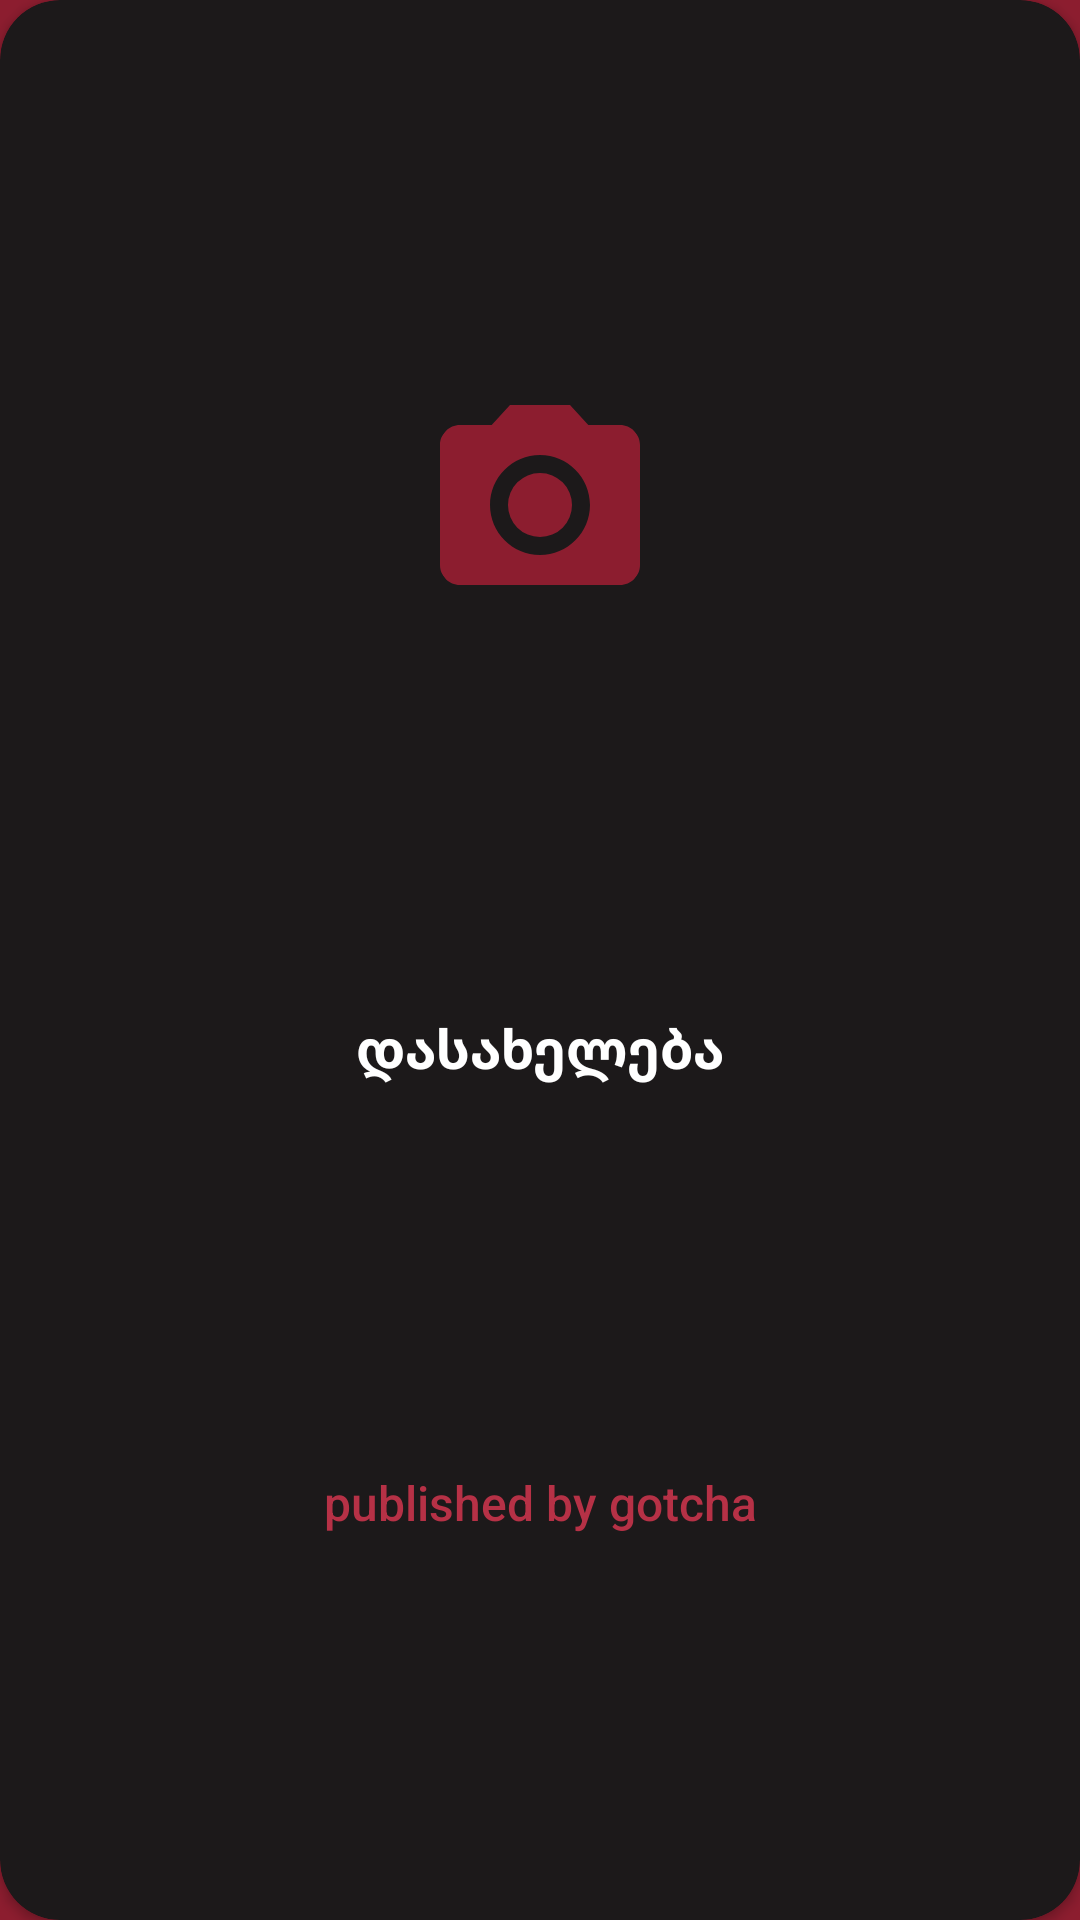

Icons on this 1080x1920 Android screen, each with its box as (x1=x1, y1=y1, x2=x2, y2=y2):
camera: (x1=440, y1=405, x2=640, y2=585)
